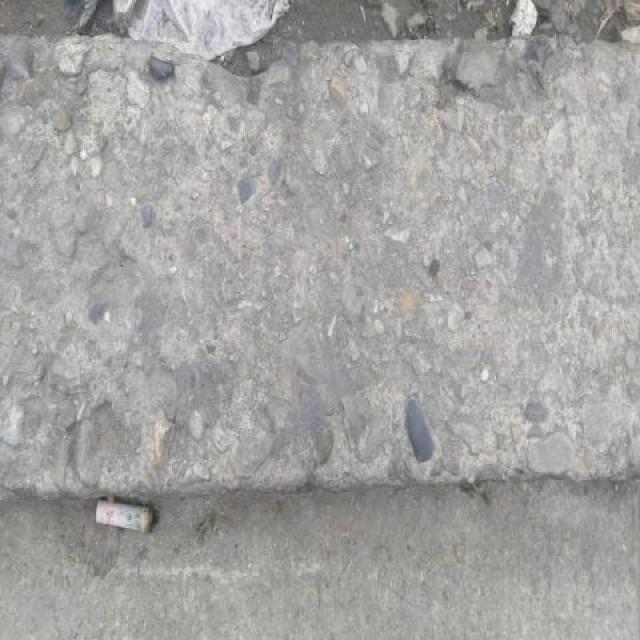non-organic waste: (92, 492, 163, 540)
